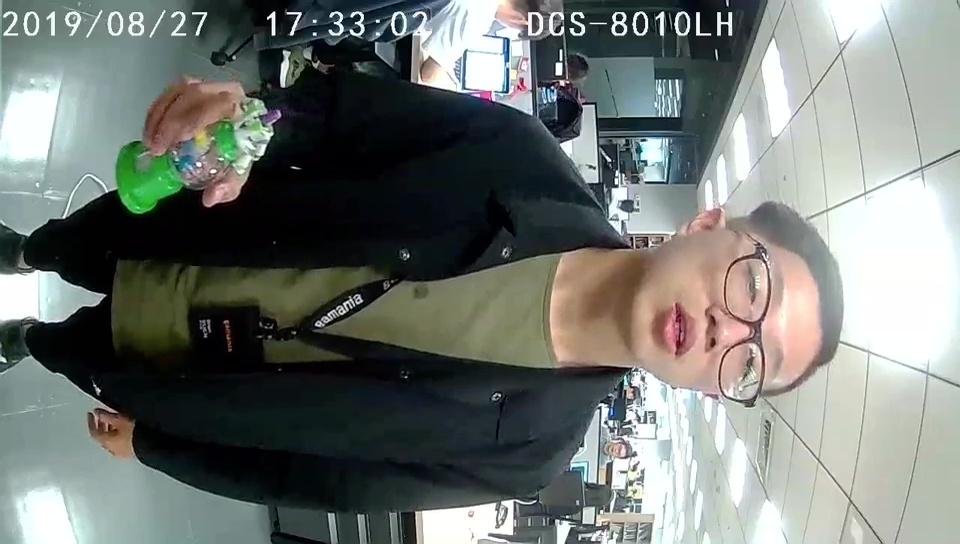buzz: (116, 97, 279, 215)
